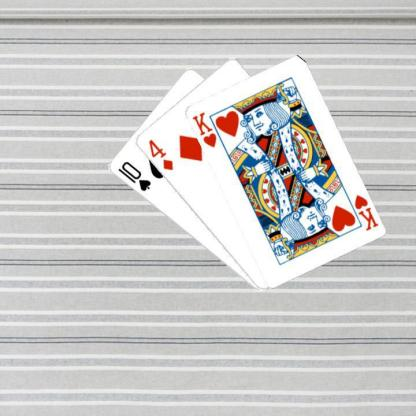10S: (115, 158, 152, 193)
4D: (146, 137, 174, 172)
KH: (189, 109, 218, 149), (351, 192, 379, 232)
